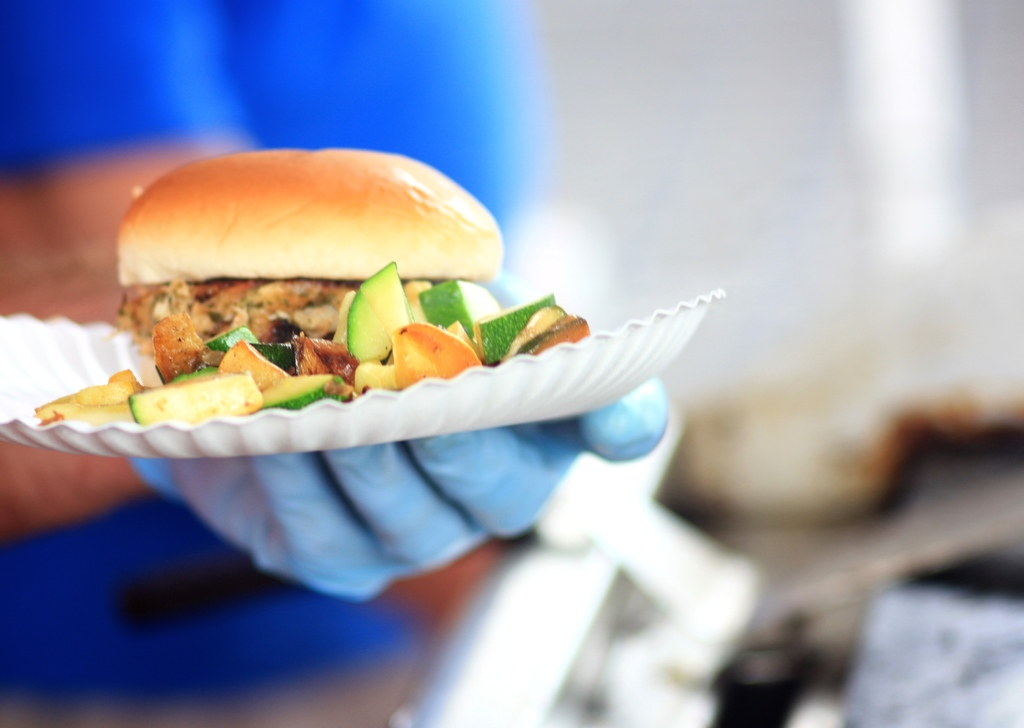Hamburger: (110, 142, 586, 402)
